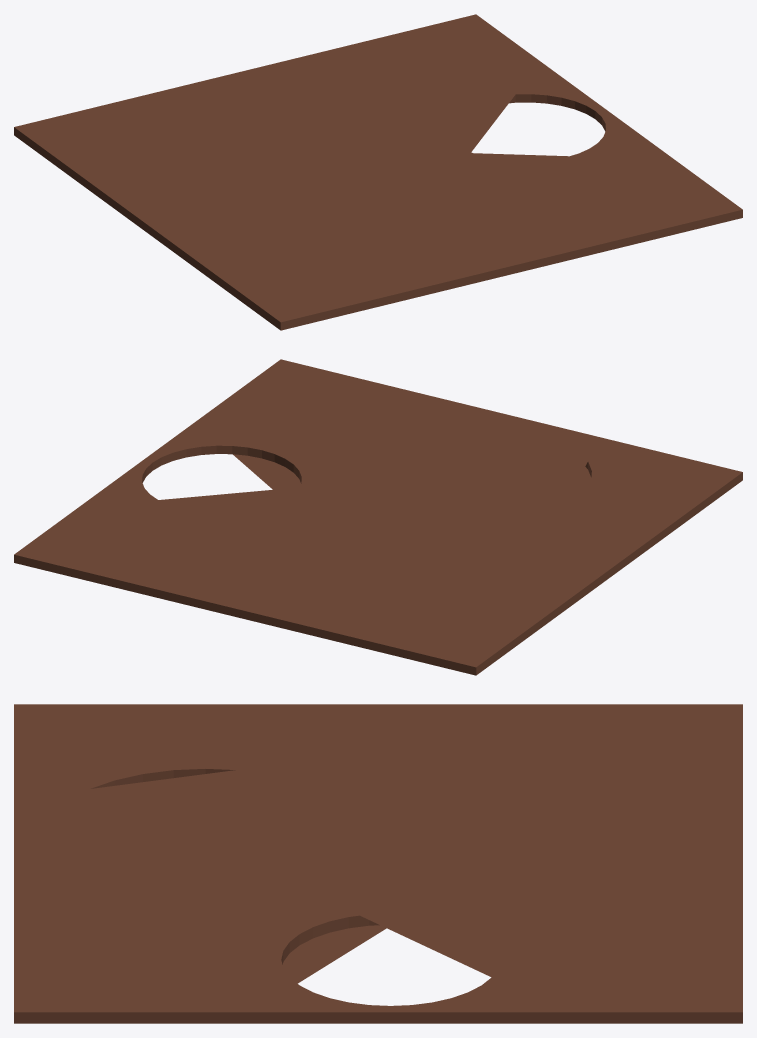
Rendered from Anayuka.fbx.
3 renders of one model, top to bottom at view 1: azimuth 30°, elevation 25°; view 2: azimuth 150°, elevation 25°; view 3: azimuth 270°, elevation 25°, orthographic. The views are drawn at different scales.
Parts seen in each view (by area): view 1: Cube; view 2: Cube; view 3: Cube.
Boxes of the visible parts, x1,y1,x2,y2 form: Cube: [14, 14, 742, 330]; Cube: [14, 359, 742, 675]; Cube: [14, 704, 742, 1023].
Bounding box in the file's own units: 23.71 × 0.4051 × 23.71.
